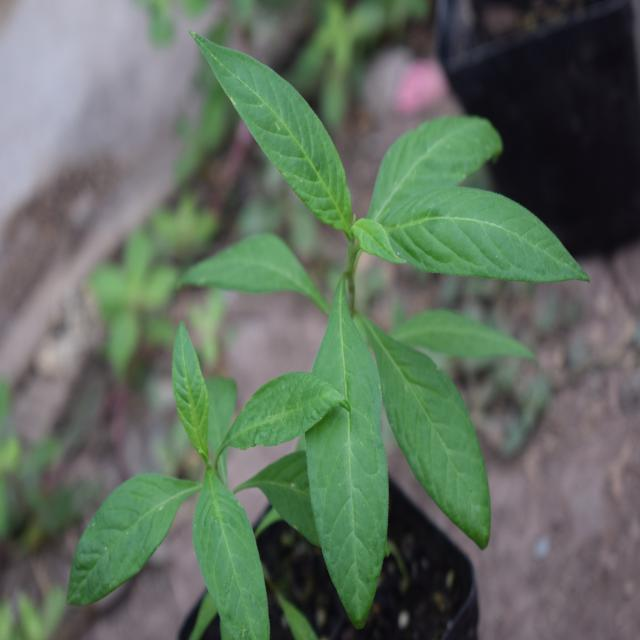white_smart_weed: (220, 49, 563, 590)
